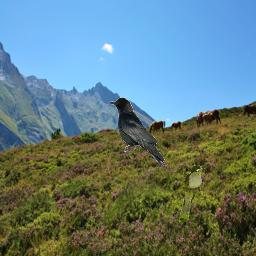Crow: (108, 97, 165, 167)
Cuckoo: (179, 165, 205, 224)
